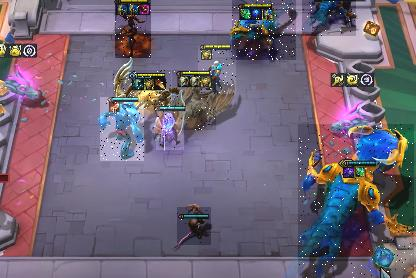1_aoshin: (232, 0, 296, 60), (302, 0, 356, 36)
1_graves: (198, 46, 236, 94)
1_shyvana: (115, 0, 151, 58)
1_terra: (172, 70, 216, 130)
1_twitch: (177, 207, 211, 245)
1_yasuo: (156, 106, 184, 150)
2_idas: (113, 70, 171, 110)
2_zac: (100, 97, 144, 161)
3_aoshin: (298, 124, 414, 278)
